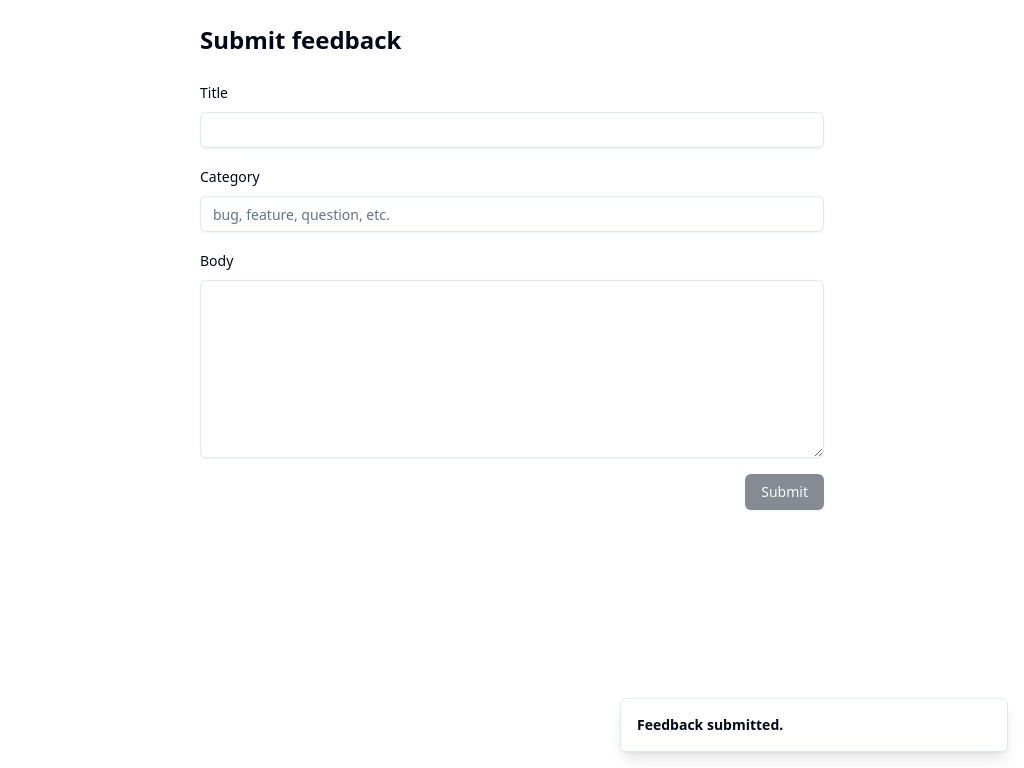
Scenario: NewFeedbackPage › shows rate-limit toast on 429
Type "X" into the field labelled "Title" at (512, 130), box left=200, top=112, right=824, bottom=148
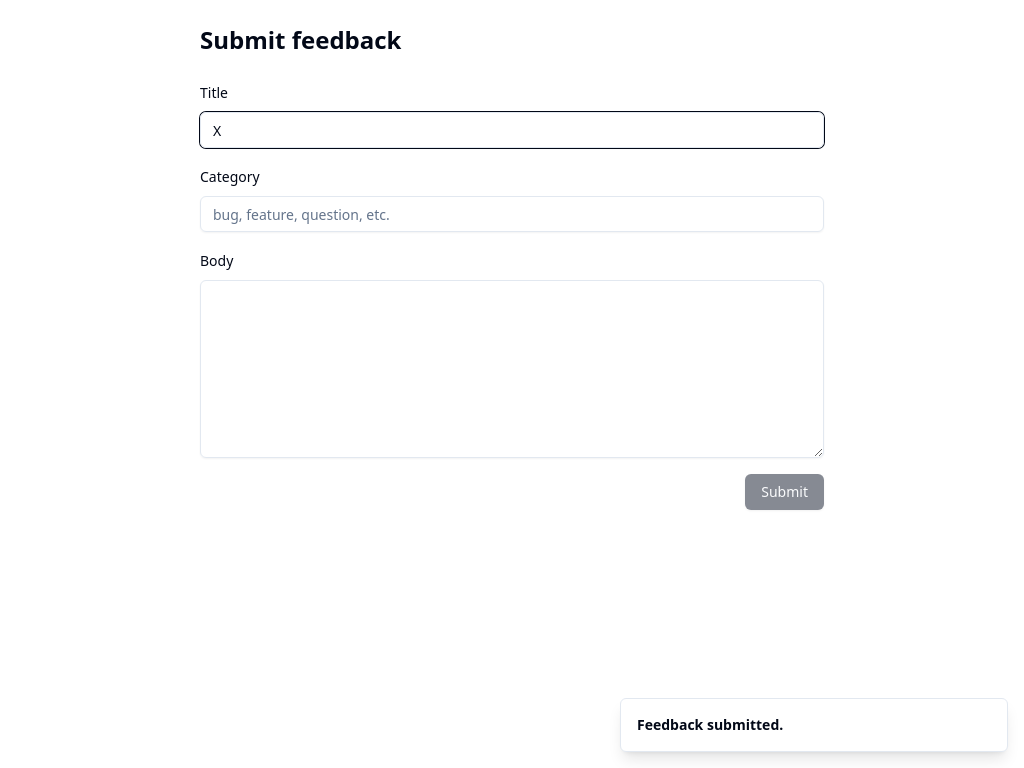
Type "Y" into the text box labelled "Body" at (512, 369), box left=200, top=280, right=824, bottom=458
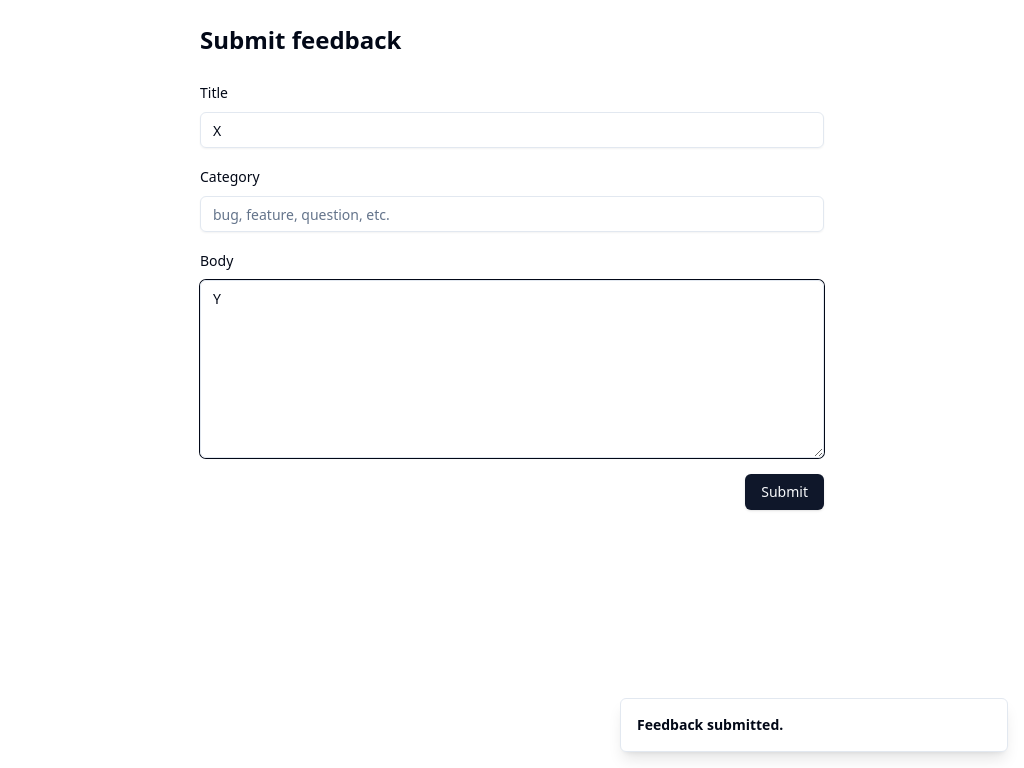
Click the button "Submit" at (785, 492), box left=745, top=474, right=824, bottom=510
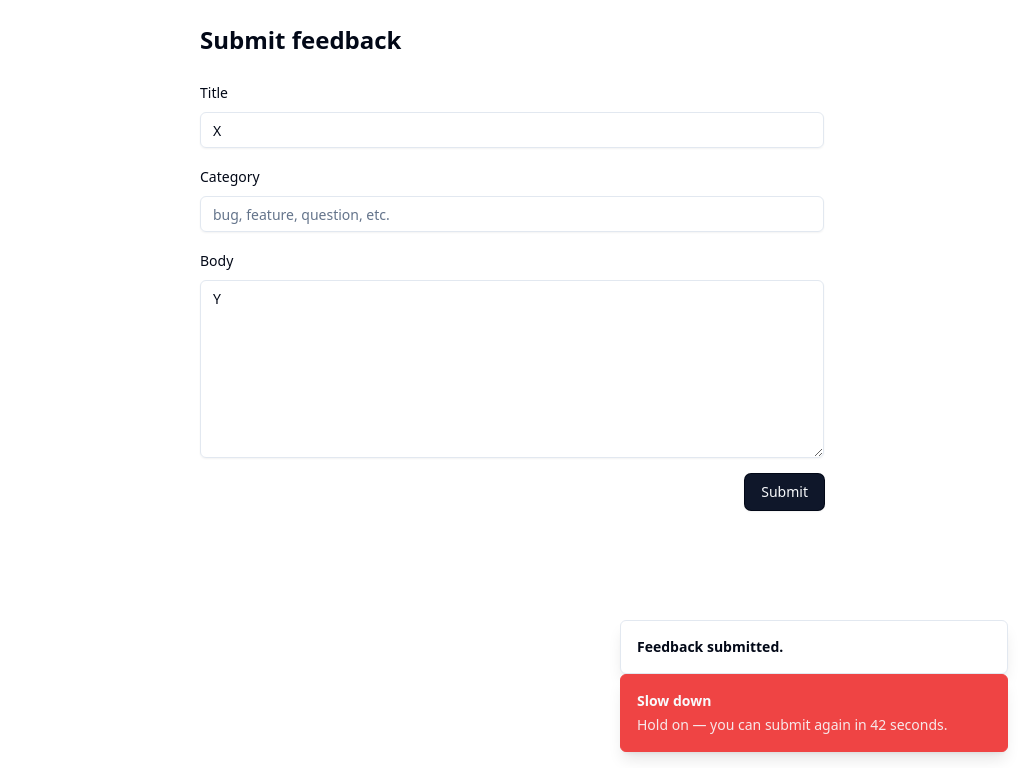
expect the text "Hold on — you can submit again in 42 seconds." is shown: met, box left=637, top=715, right=948, bottom=735
